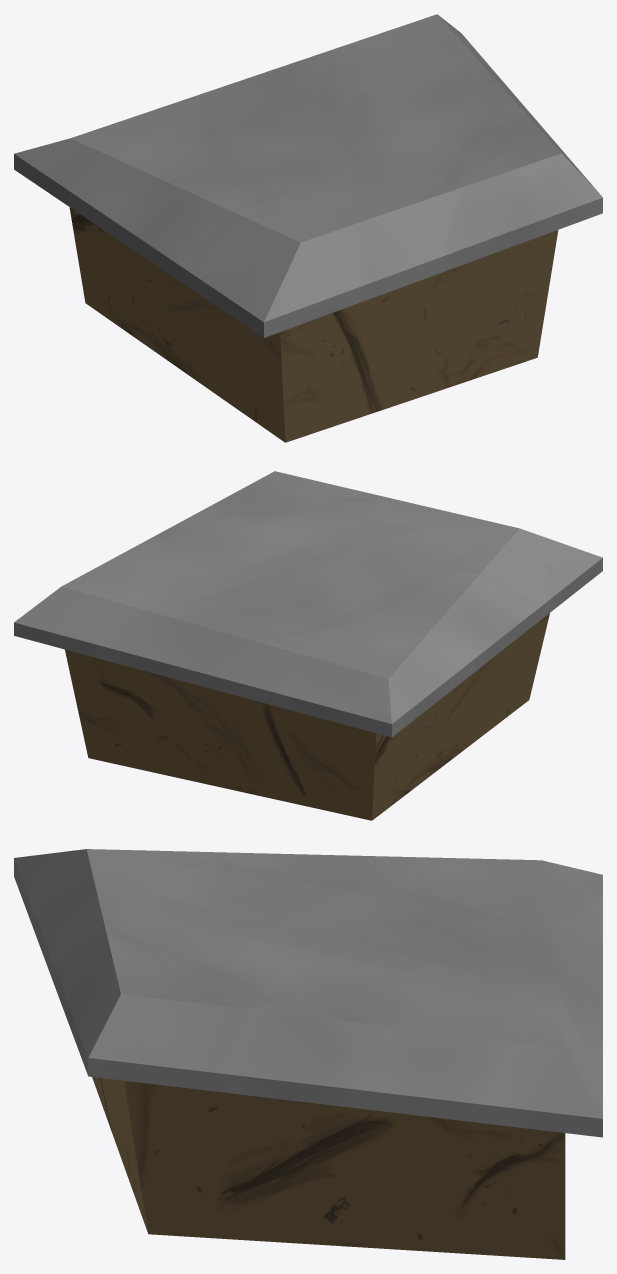
The model's file is shack 1.fbx.
3 views of the same model, one above another, from view 1: azimuth 30°, elevation 25°; view 2: azimuth 150°, elevation 25°; view 3: azimuth 270°, elevation 25° (orthographic). The views are drawn at different scales.
Visible parts, largest first — view 1: Cube; view 2: Cube; view 3: Cube.
Part boxes in pixels (bbox=[...]): Cube: bbox=[14, 14, 602, 442]; Cube: bbox=[14, 471, 602, 820]; Cube: bbox=[14, 849, 602, 1259].
Bounding box in the file's own units: 52.98 × 23.73 × 51.24.
